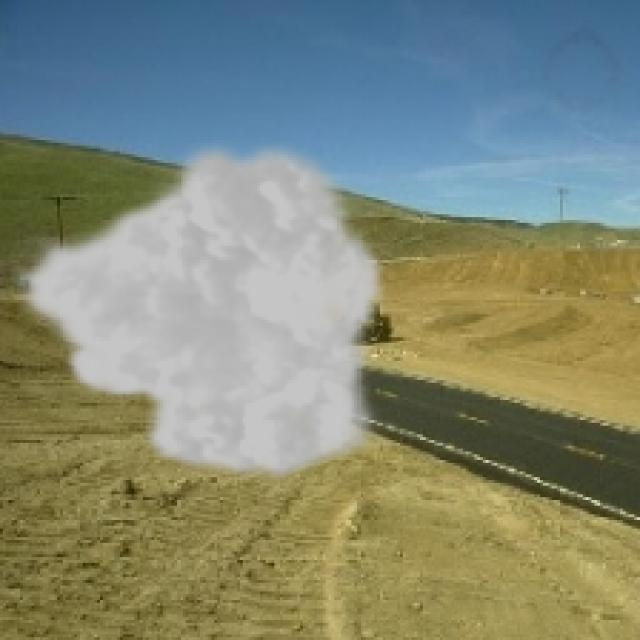smoke: (11, 134, 388, 486)
